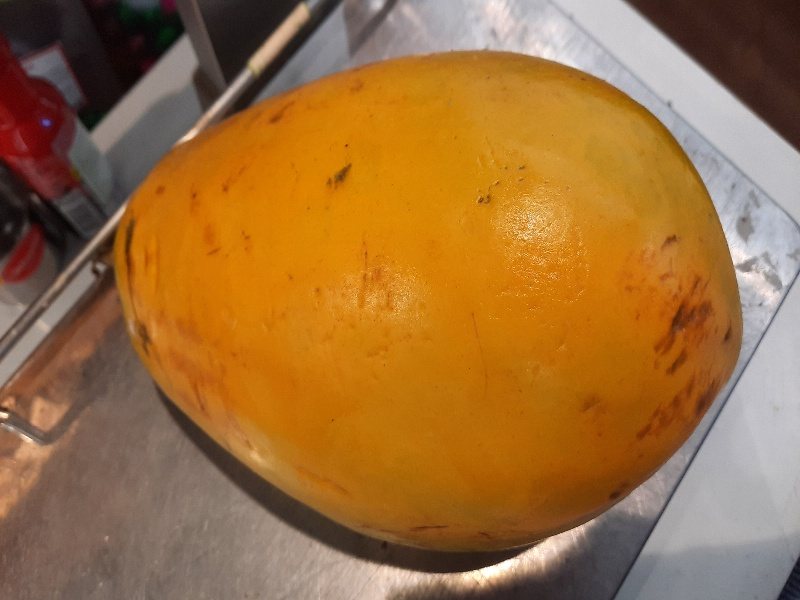fruit: (104, 46, 744, 554)
